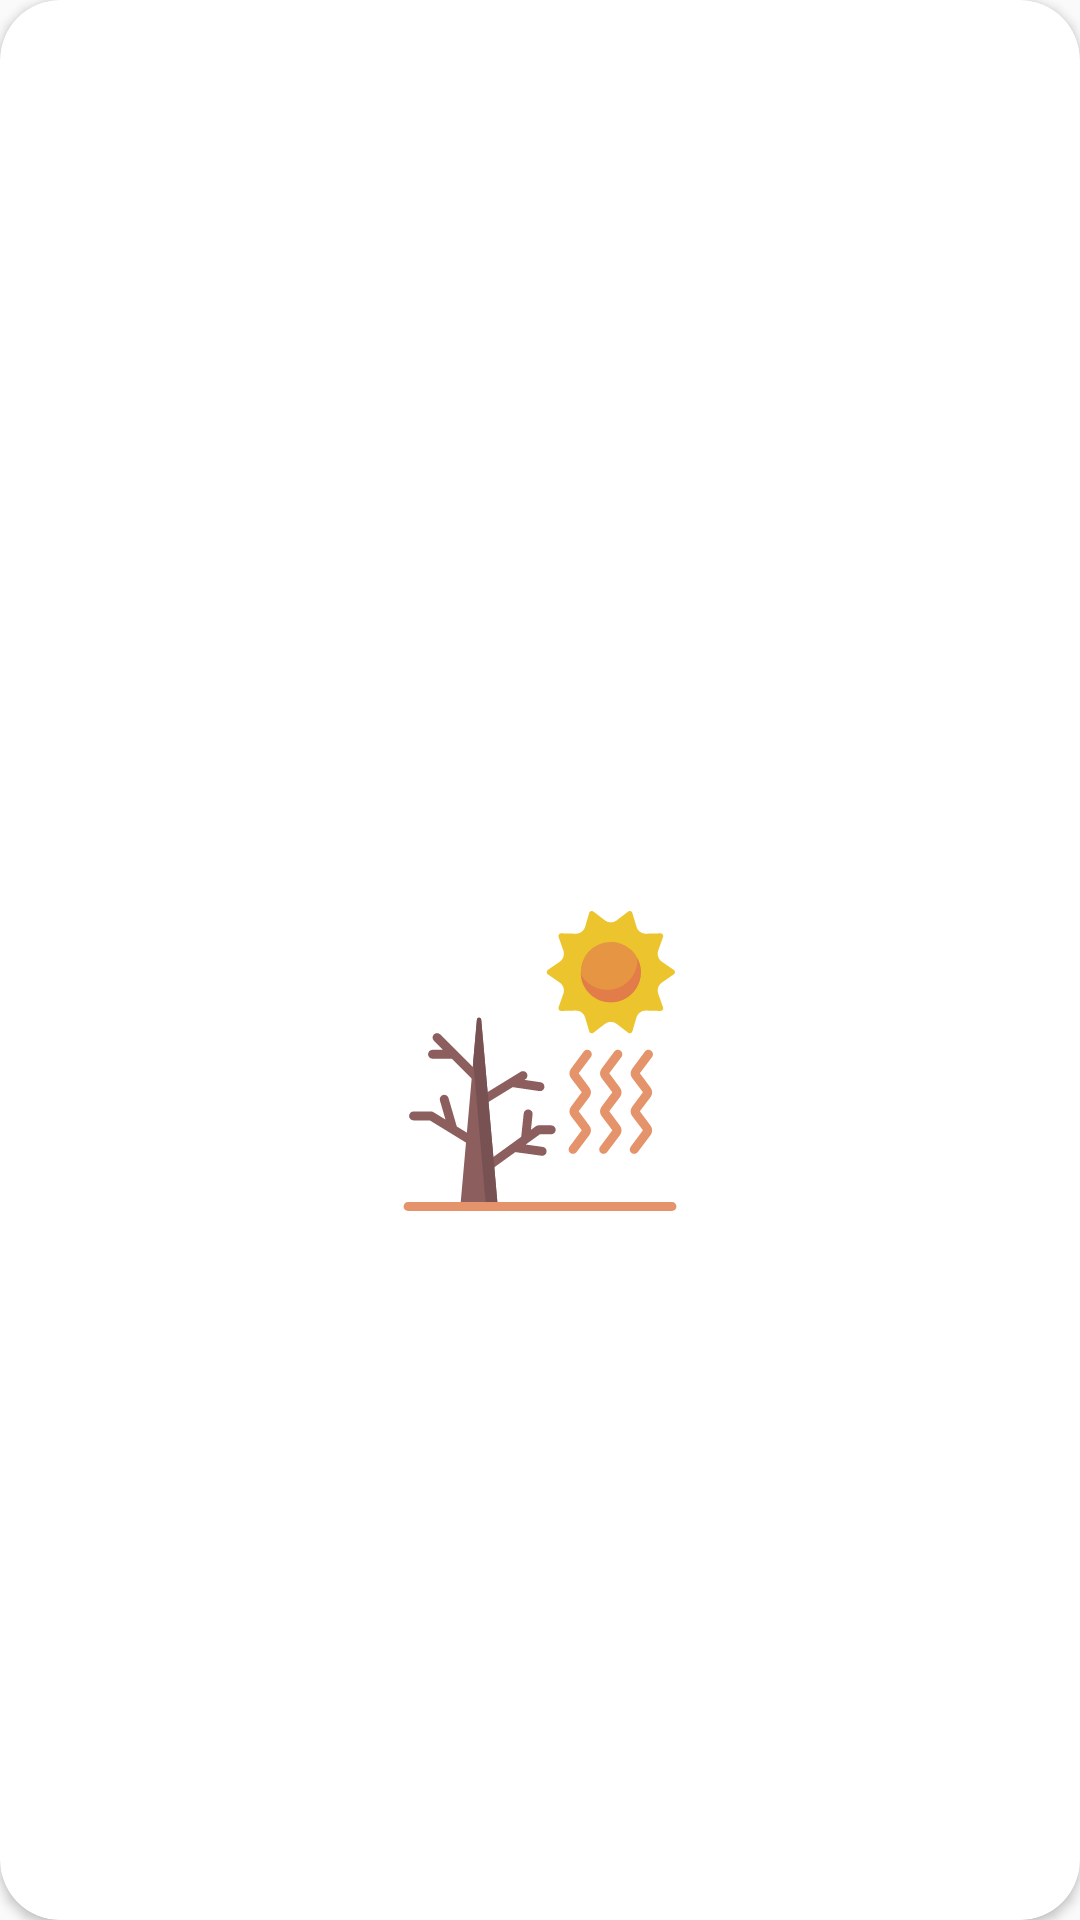

Locate icon controls on the screen. Image size 1080×1920, boxes as (x1, y1, x2, y2).
hot: (403, 911, 677, 1211)
